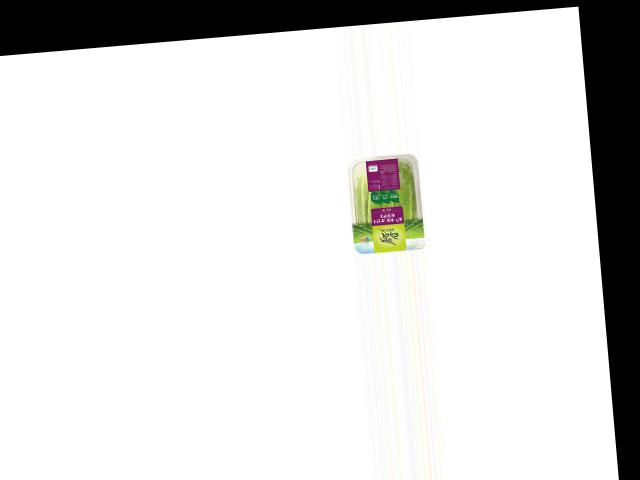lettuce: (345, 152, 425, 248)
